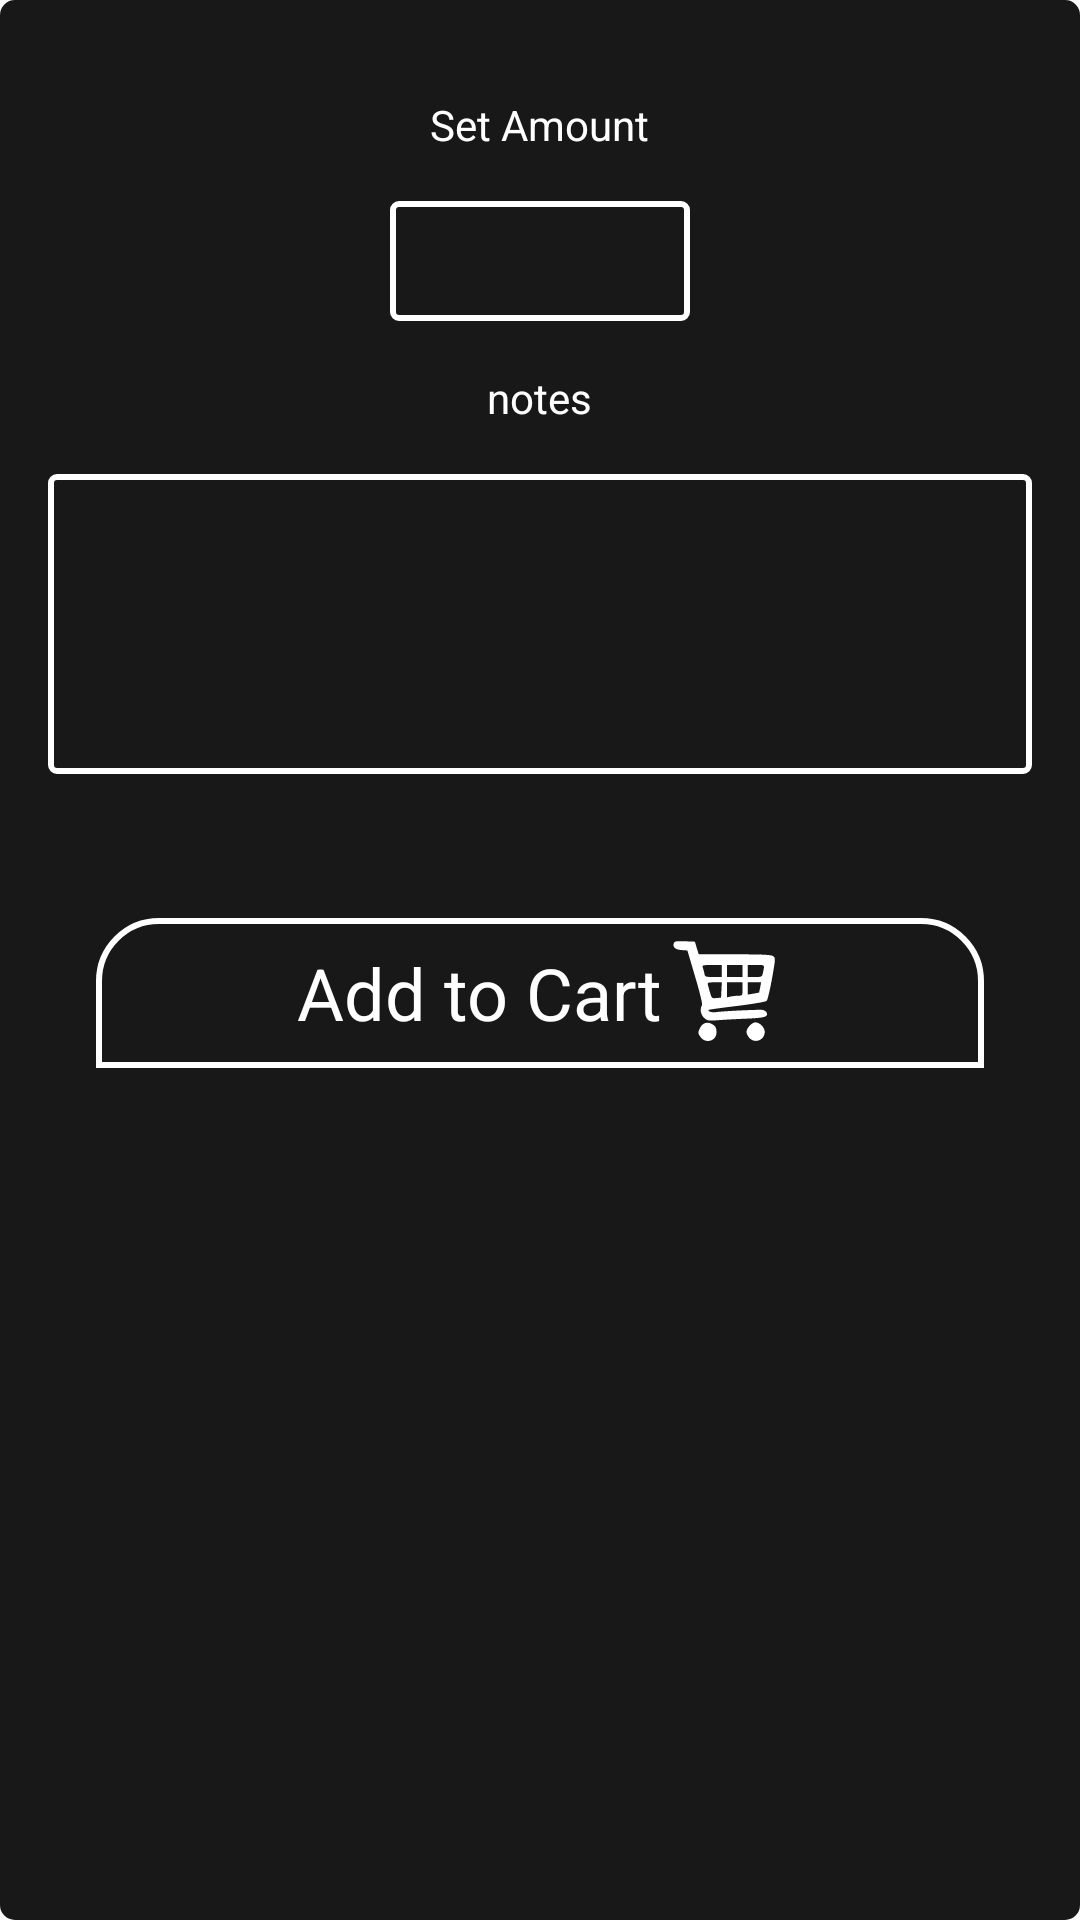

Icon click points for this 1080×1920 phone screenshot, format point (x, y):
cart symbol: point (724, 991)
